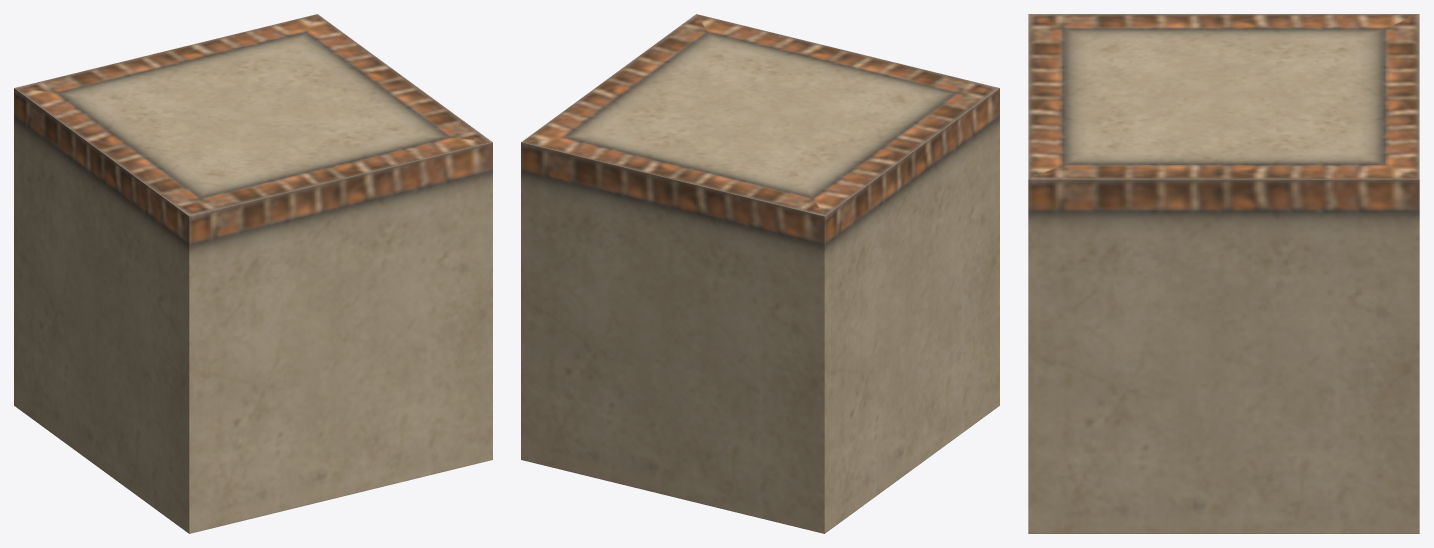
The model's file is FloorBox.FBX.
3 renders of one model, left to right at view 1: azimuth 30°, elevation 25°; view 2: azimuth 150°, elevation 25°; view 3: azimuth 270°, elevation 25°, orthographic. The views are drawn at different scales.
Visible parts, largest first — view 1: Box001; view 2: Box001; view 3: Box001.
Boxes of the visible parts, box(x1,y1,x2,y2) form: Box001: box(14, 14, 492, 533); Box001: box(521, 14, 999, 533); Box001: box(1028, 14, 1419, 533).
Size of the model in its own units: 4 by 4 by 4.
Materials: 2 (2 with a texture image).
